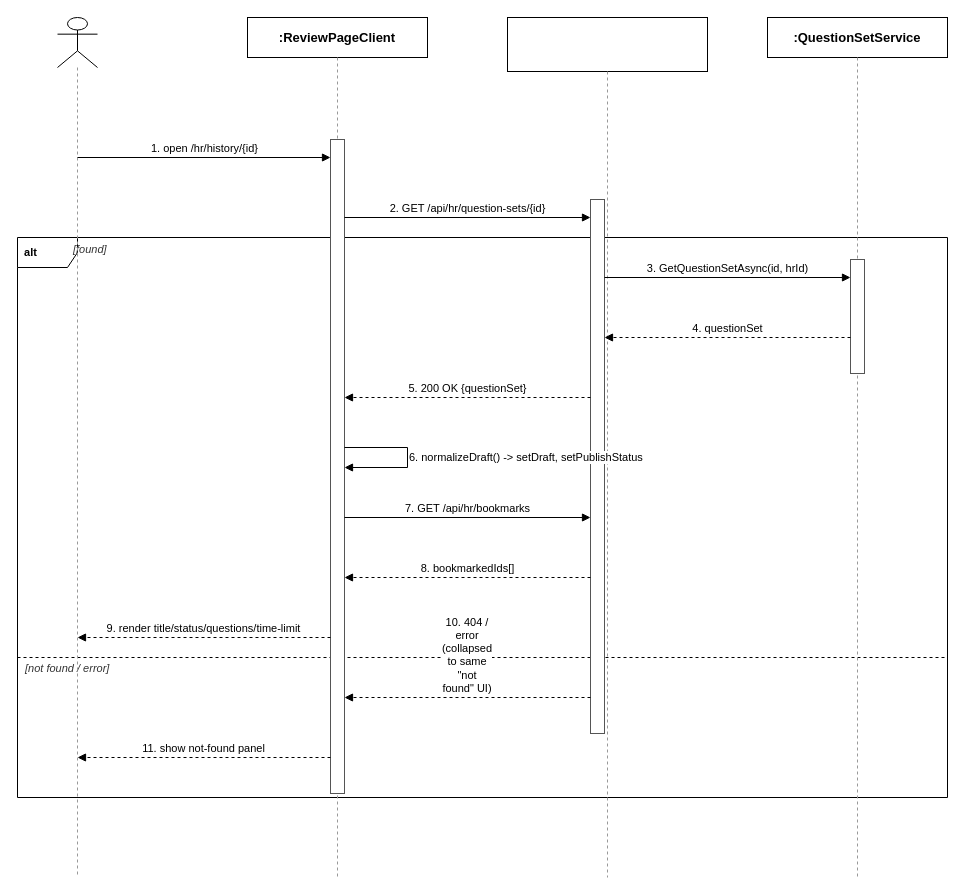
Image size: 966x896. Some labels were removed from this diagram. The box of each missing label's shape, as (x1, y1, x2, y2) in pixels:
:HrQuestionSetsController: (506, 16, 708, 72)
HR Manager: (56, 16, 98, 68)
